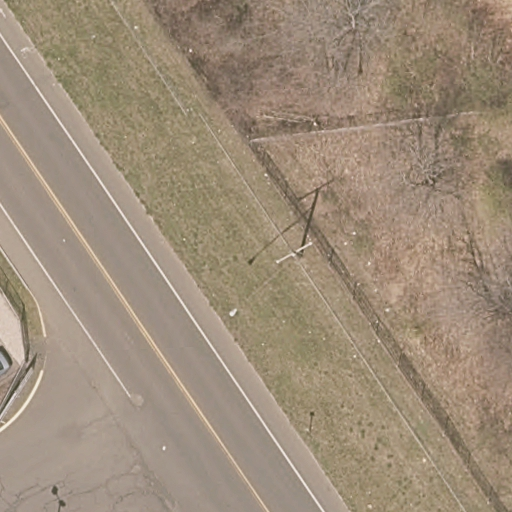DT: (277, 241, 314, 267)
